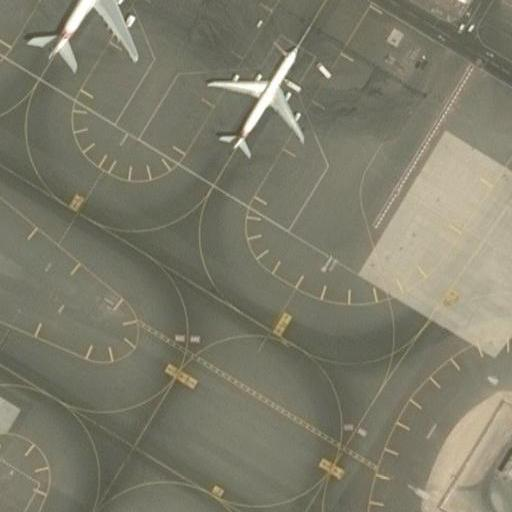Aircraft: (211, 34, 313, 160), (9, 0, 145, 75)
